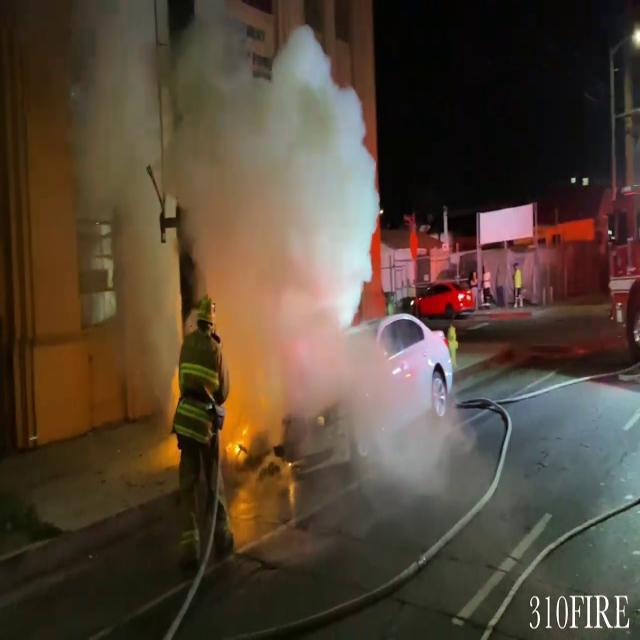Smoke: (20, 3, 378, 361)
